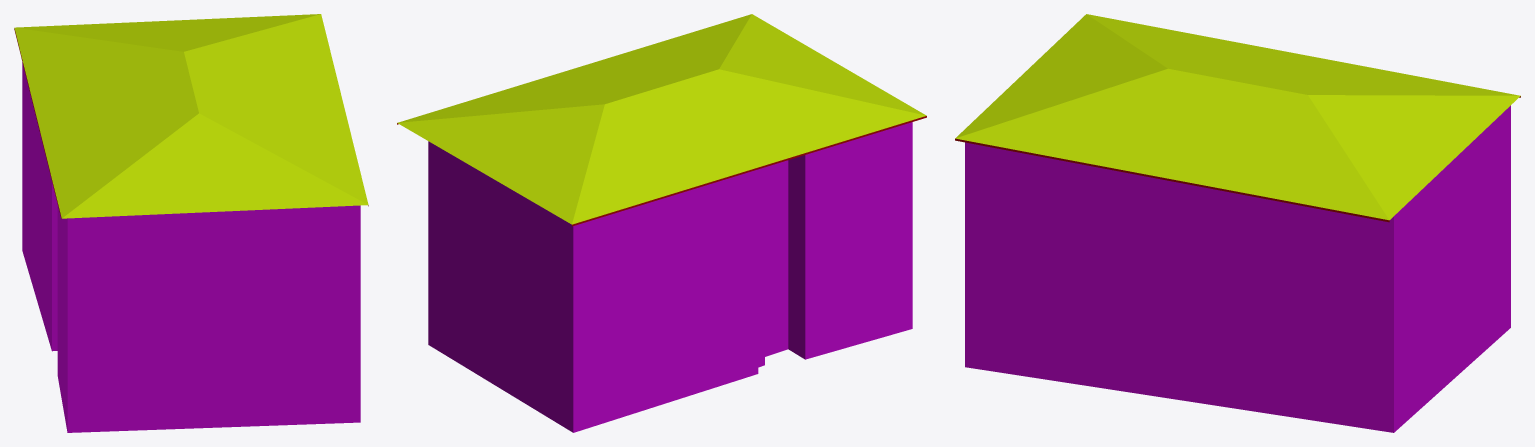
The model's file is rmc_111.glb.
The picture shows the model from 3 angles, left to right: view 1: azimuth 30°, elevation 25°; view 2: azimuth 150°, elevation 25°; view 3: azimuth 270°, elevation 25°; orthographic projection. The views are drawn at different scales.
Visible parts, largest first — view 1: rmc_111; view 2: rmc_111; view 3: rmc_111.
Boxes of the visible parts, x1,y1,x2,y2 form: rmc_111: (14, 14, 368, 432); rmc_111: (397, 14, 926, 432); rmc_111: (955, 14, 1520, 432).
Bounding box in the file's own units: 26.27 × 15.76 × 30.44.
